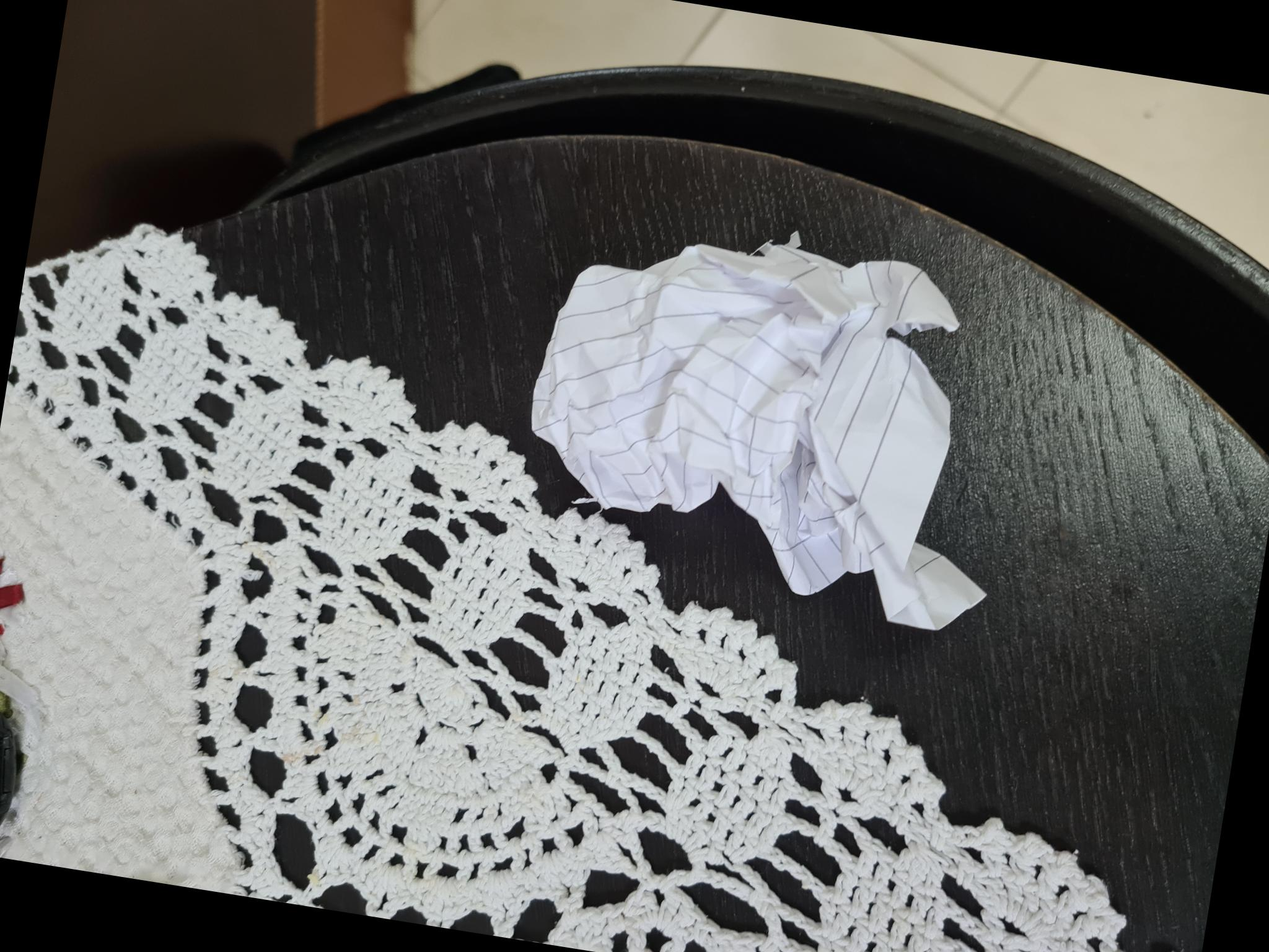Kertas: (299, 513, 665, 936)
